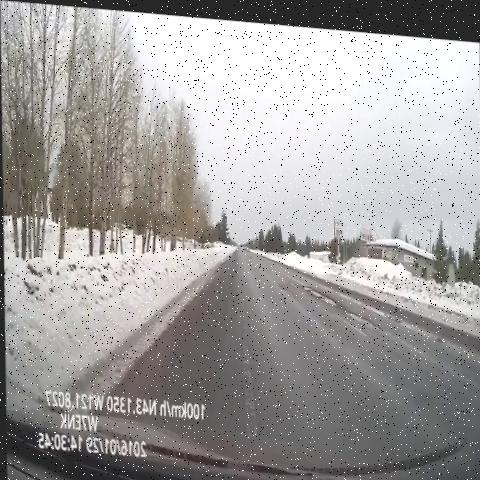pothole: (343, 292, 388, 341), (297, 271, 339, 312), (275, 264, 299, 297), (243, 244, 258, 262)
